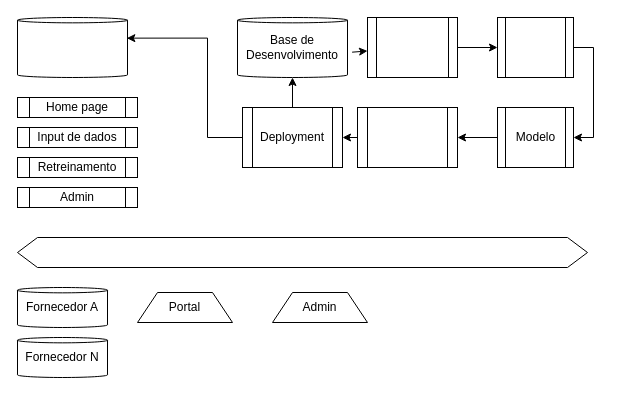
Some shapes in this 619 by 395 pixel diagram are drawn without their labels. Here are the shapes that lost their labels. From the top down, the centre of each, then its label:
At pixel 72 47: "Base de Operação".
At pixel 412 47: "Preparação dos Dados".
At pixel 535 47: "EDA".
At pixel 407 137: "Interpretação".
At pixel 302 252: "Web-API: Django REST".
